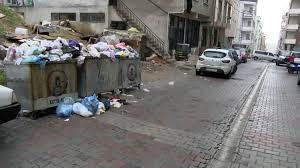Container: (25, 65, 79, 101), (84, 58, 122, 92), (5, 63, 34, 90), (124, 60, 143, 89), (23, 102, 56, 111)
Garbage: (77, 32, 142, 58), (6, 42, 82, 63), (58, 102, 107, 119), (82, 94, 132, 109), (52, 39, 84, 59)
